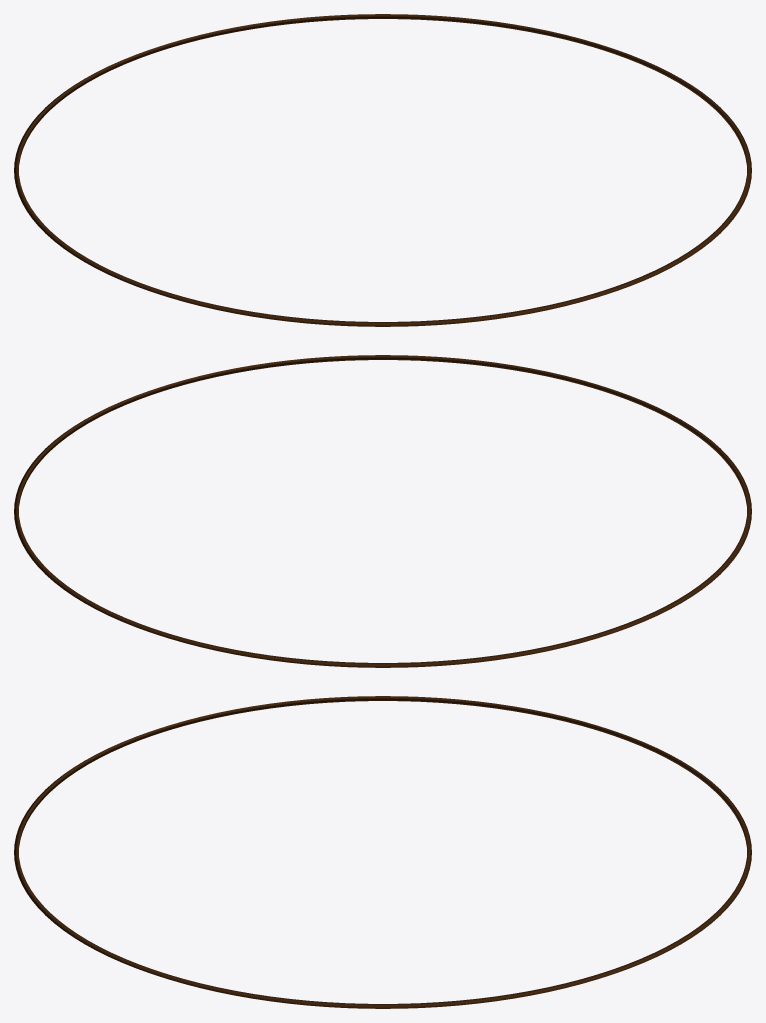
The model's file is bleacher-riser.glb.
3 views of the same model, one above another, from view 1: azimuth 30°, elevation 25°; view 2: azimuth 150°, elevation 25°; view 3: azimuth 270°, elevation 25° (orthographic).
Bounding box in the file's own units: 28.24 × 0.2078 × 28.24.
